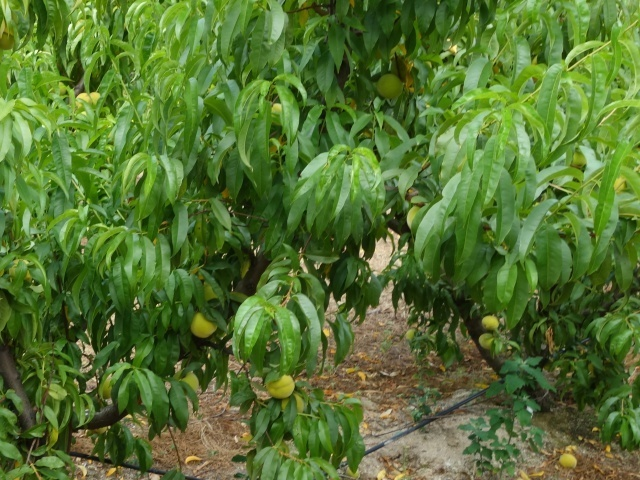peach: (188, 307, 222, 342), (263, 367, 296, 400), (171, 366, 203, 395), (373, 70, 405, 99), (277, 391, 307, 416), (473, 329, 501, 351), (478, 311, 502, 333)
